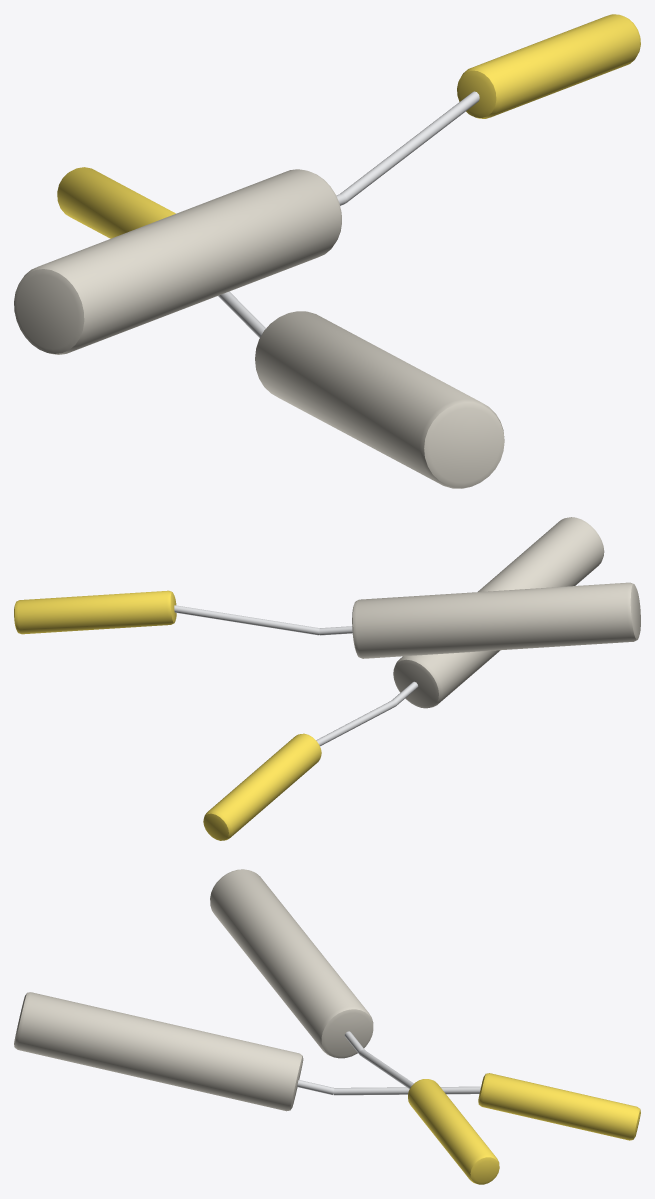
Rendered from PIN-FER-001_anim.glb.
The picture shows the model from 3 angles, top to bottom: view 1: azimuth 30°, elevation 25°; view 2: azimuth 150°, elevation 25°; view 3: azimuth 270°, elevation 25°; orthographic projection. The views are drawn at different scales.
Parts seen in each view (by area): view 1: PIN-FER-001_anim1, PIN-FER-001_anim0; view 2: PIN-FER-001_anim1, PIN-FER-001_anim0; view 3: PIN-FER-001_anim0, PIN-FER-001_anim1.
Part boxes in pixels (x1,y1,x2,y2): PIN-FER-001_anim1: [14, 14, 640, 354]; PIN-FER-001_anim0: [57, 167, 504, 488]; PIN-FER-001_anim1: [14, 582, 640, 658]; PIN-FER-001_anim0: [203, 517, 604, 840]; PIN-FER-001_anim0: [14, 992, 640, 1140]; PIN-FER-001_anim1: [210, 869, 499, 1184].
Size of the model in its own units: 0.4755 by 0.1459 by 0.505.
